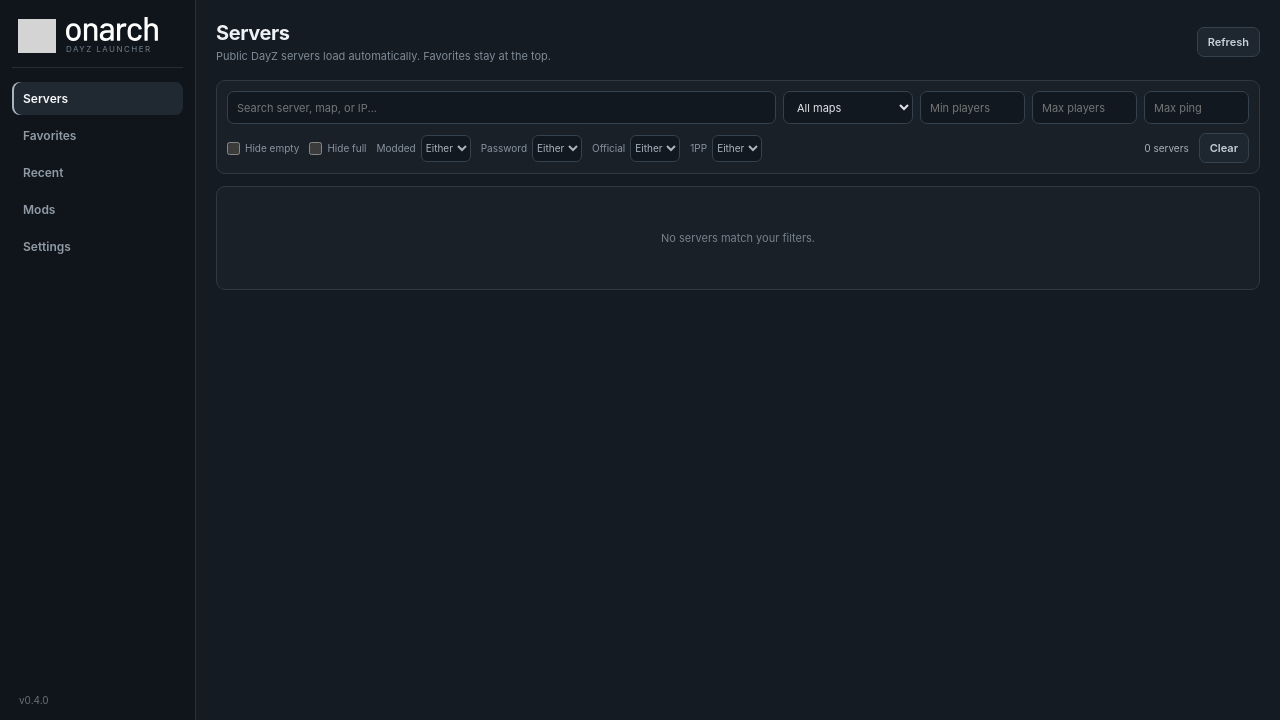
it: keeps a saved DayZ name instead of replacing it with Steam
The image size is (1280, 720).
Click the button "Settings" at (98, 246), box [12,230,183,263]
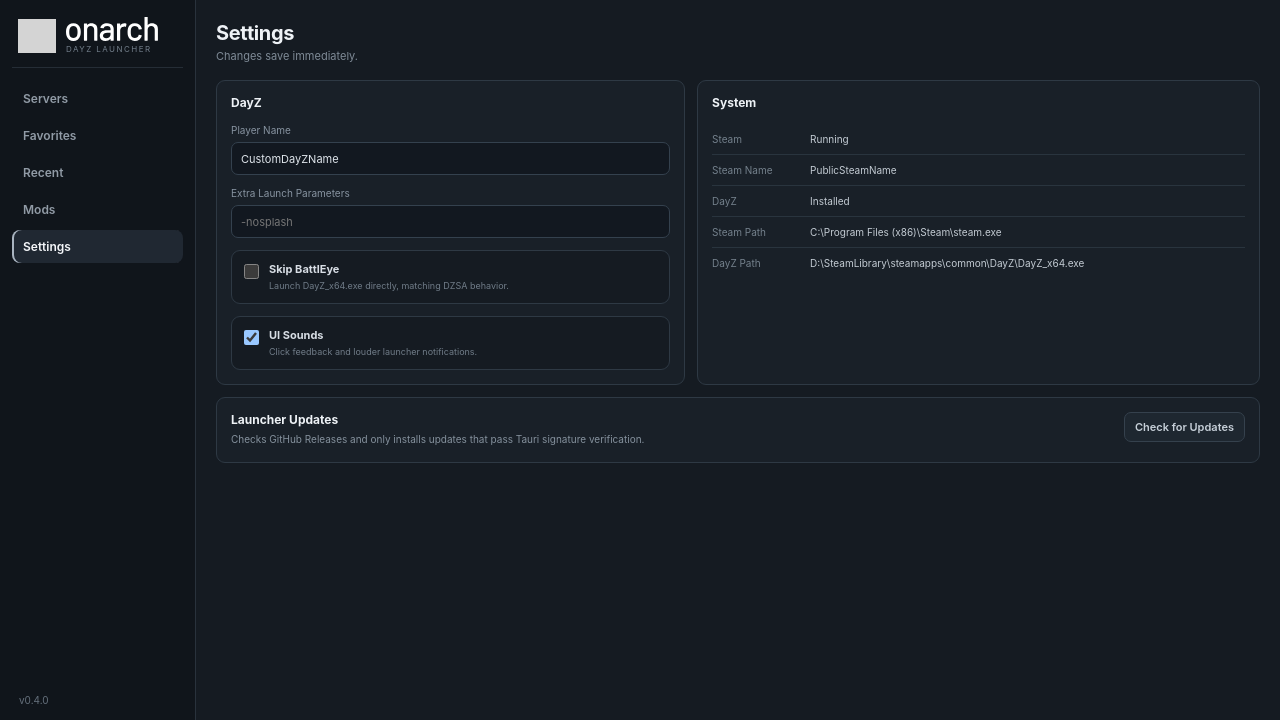
Expected: the field showing "CustomDayZName" is shown, [231,142,670,175]
